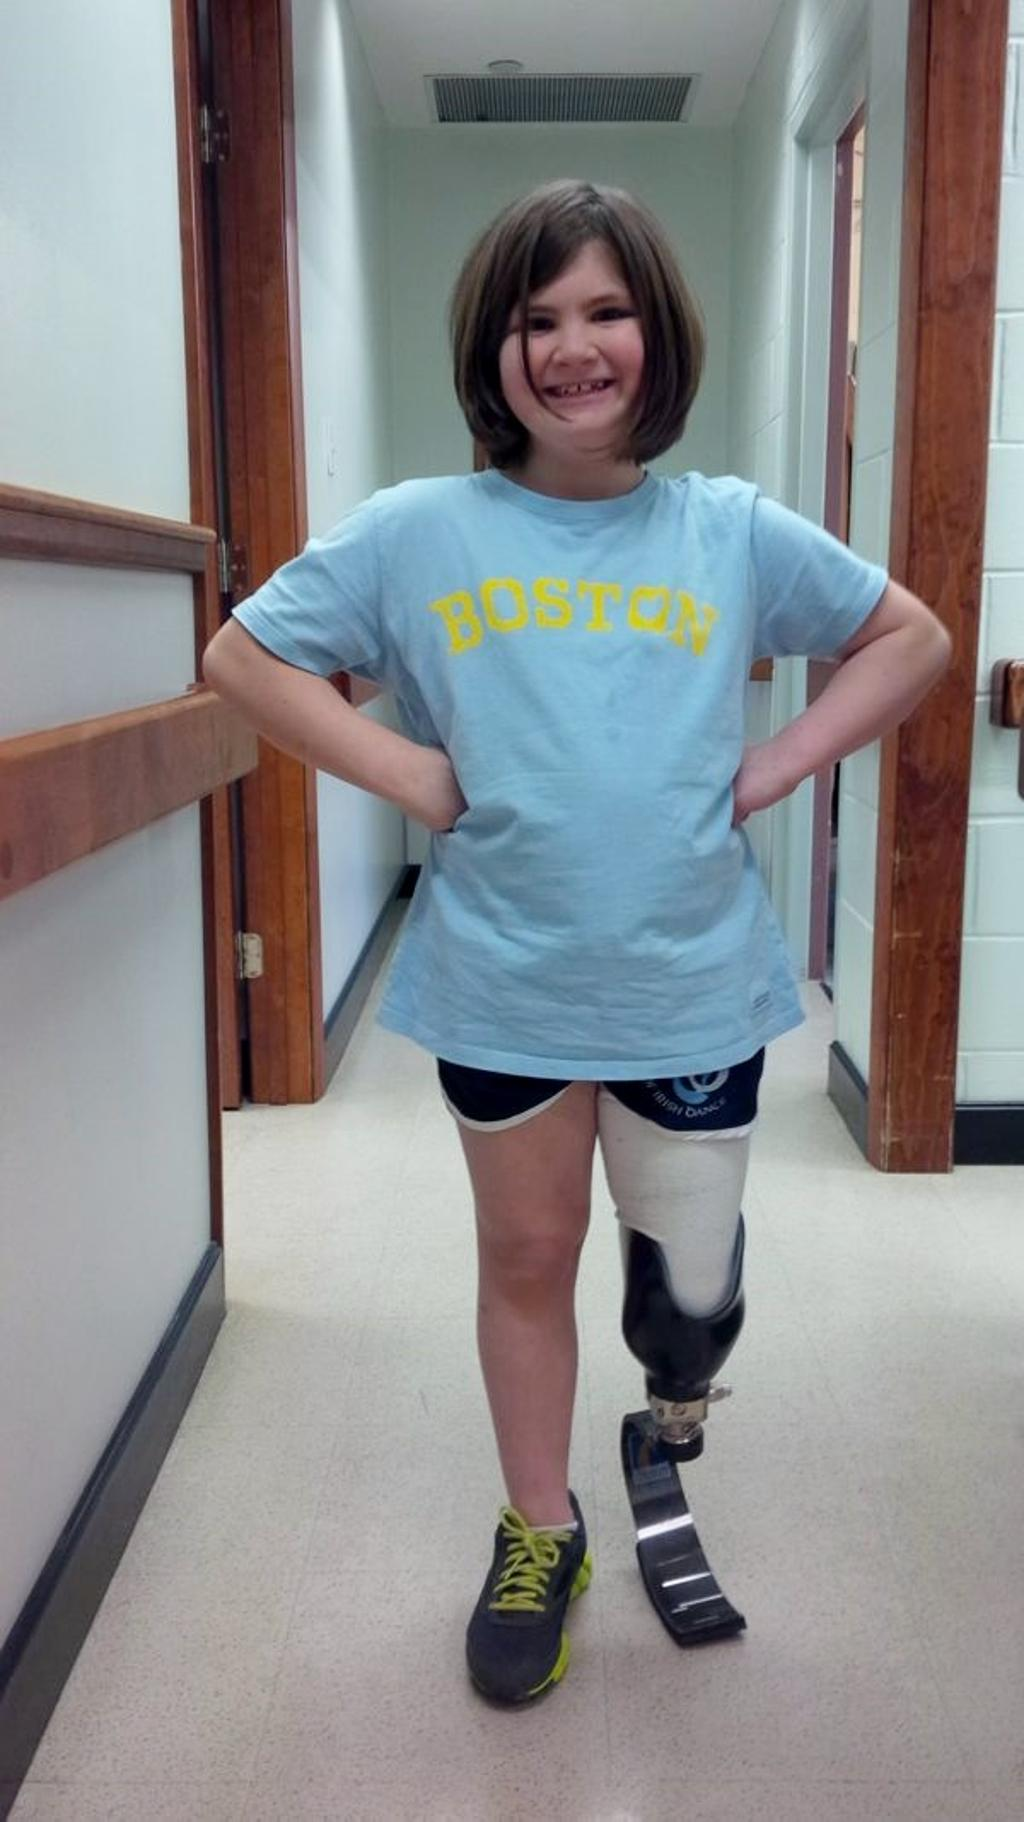face: (505, 238, 658, 437)
